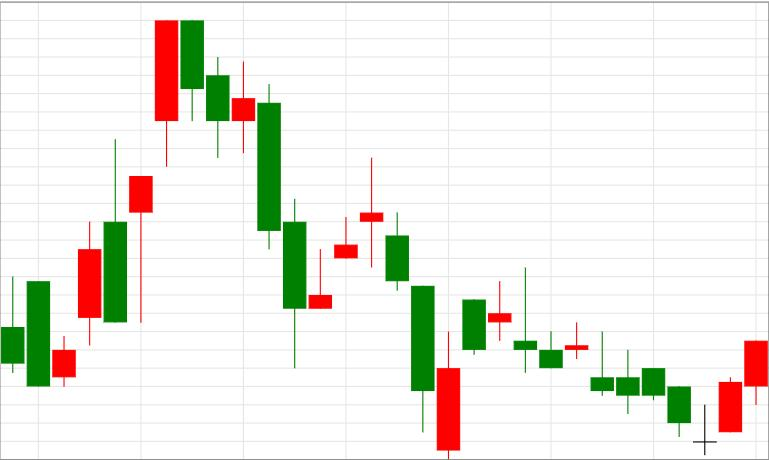morning_star_rise: (514, 268, 742, 456)
